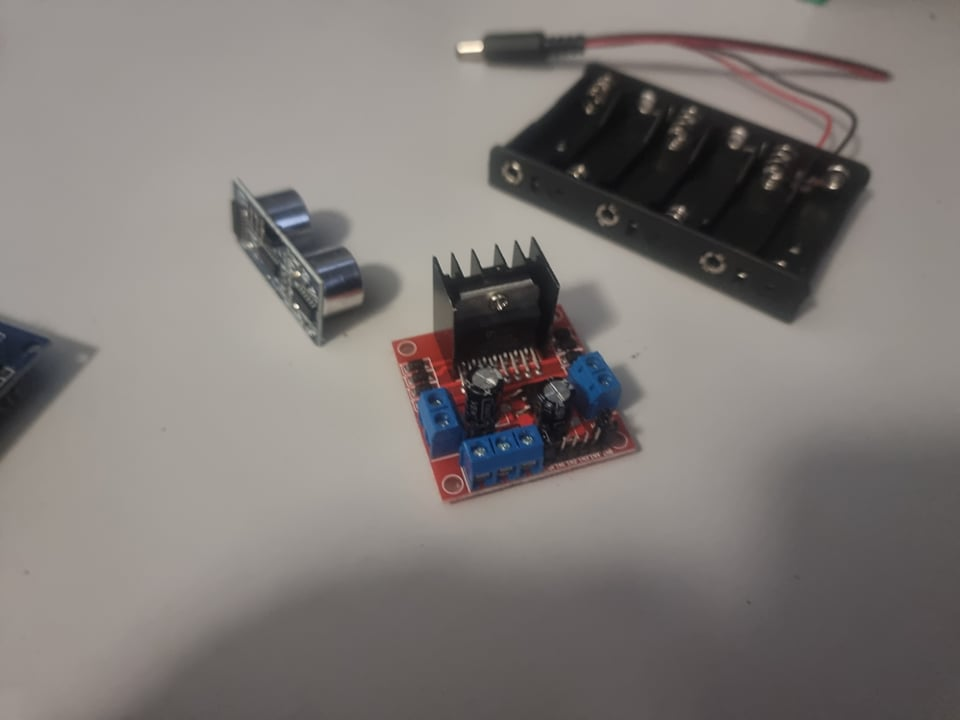BATTERY BOX: (489, 61, 872, 332)
MOTOR: (396, 237, 648, 508)
SENSOR: (228, 175, 366, 348)
